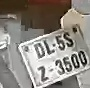0: (77, 51, 88, 67), (71, 52, 79, 69)
3: (54, 60, 65, 77)
5: (63, 55, 72, 72), (56, 35, 65, 51)
D: (32, 40, 46, 59)
L: (44, 38, 55, 55)
S: (63, 33, 75, 49)
Z: (38, 66, 50, 83)
